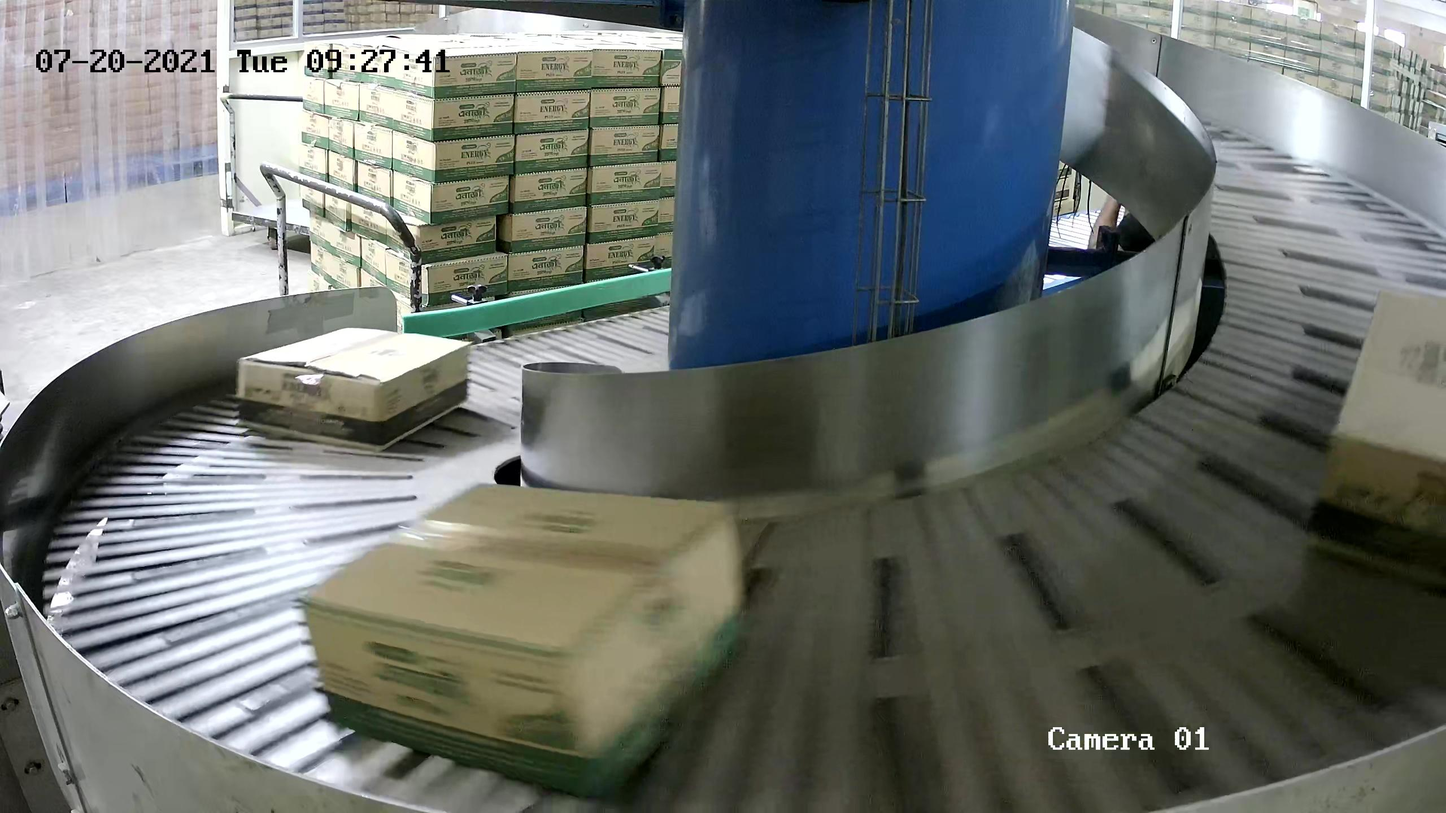Box: (295, 478, 752, 801), (1303, 286, 1446, 591), (235, 326, 473, 453)
